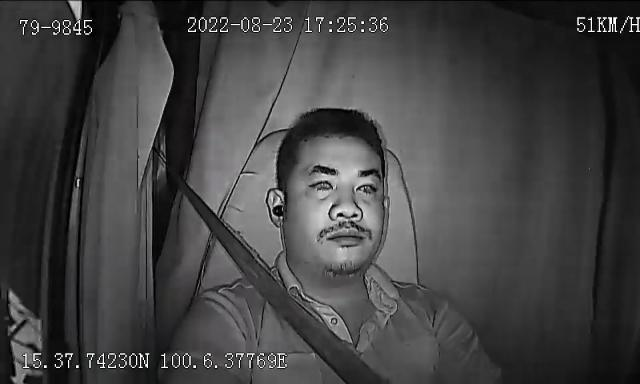SafeDriving: (305, 168, 339, 196), (351, 172, 383, 201)
Seatbelt: (219, 228, 381, 384)
